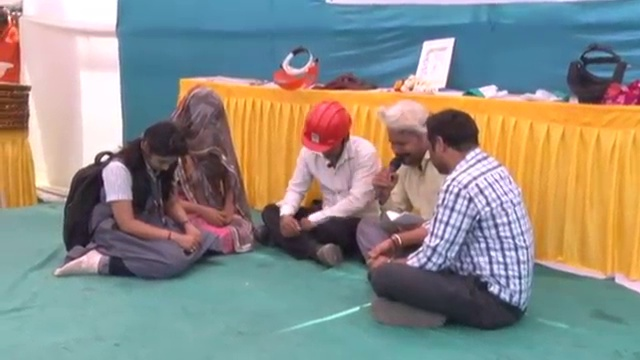helmet: (298, 96, 356, 152)
helmet_off: (426, 108, 481, 178), (135, 116, 188, 183), (176, 91, 230, 152), (384, 100, 430, 168), (0, 2, 22, 28)
helmet_on: (297, 95, 353, 168)
person: (367, 108, 537, 336), (56, 118, 206, 280), (257, 100, 384, 260), (356, 92, 452, 269), (163, 80, 256, 252), (1, 3, 25, 83)
